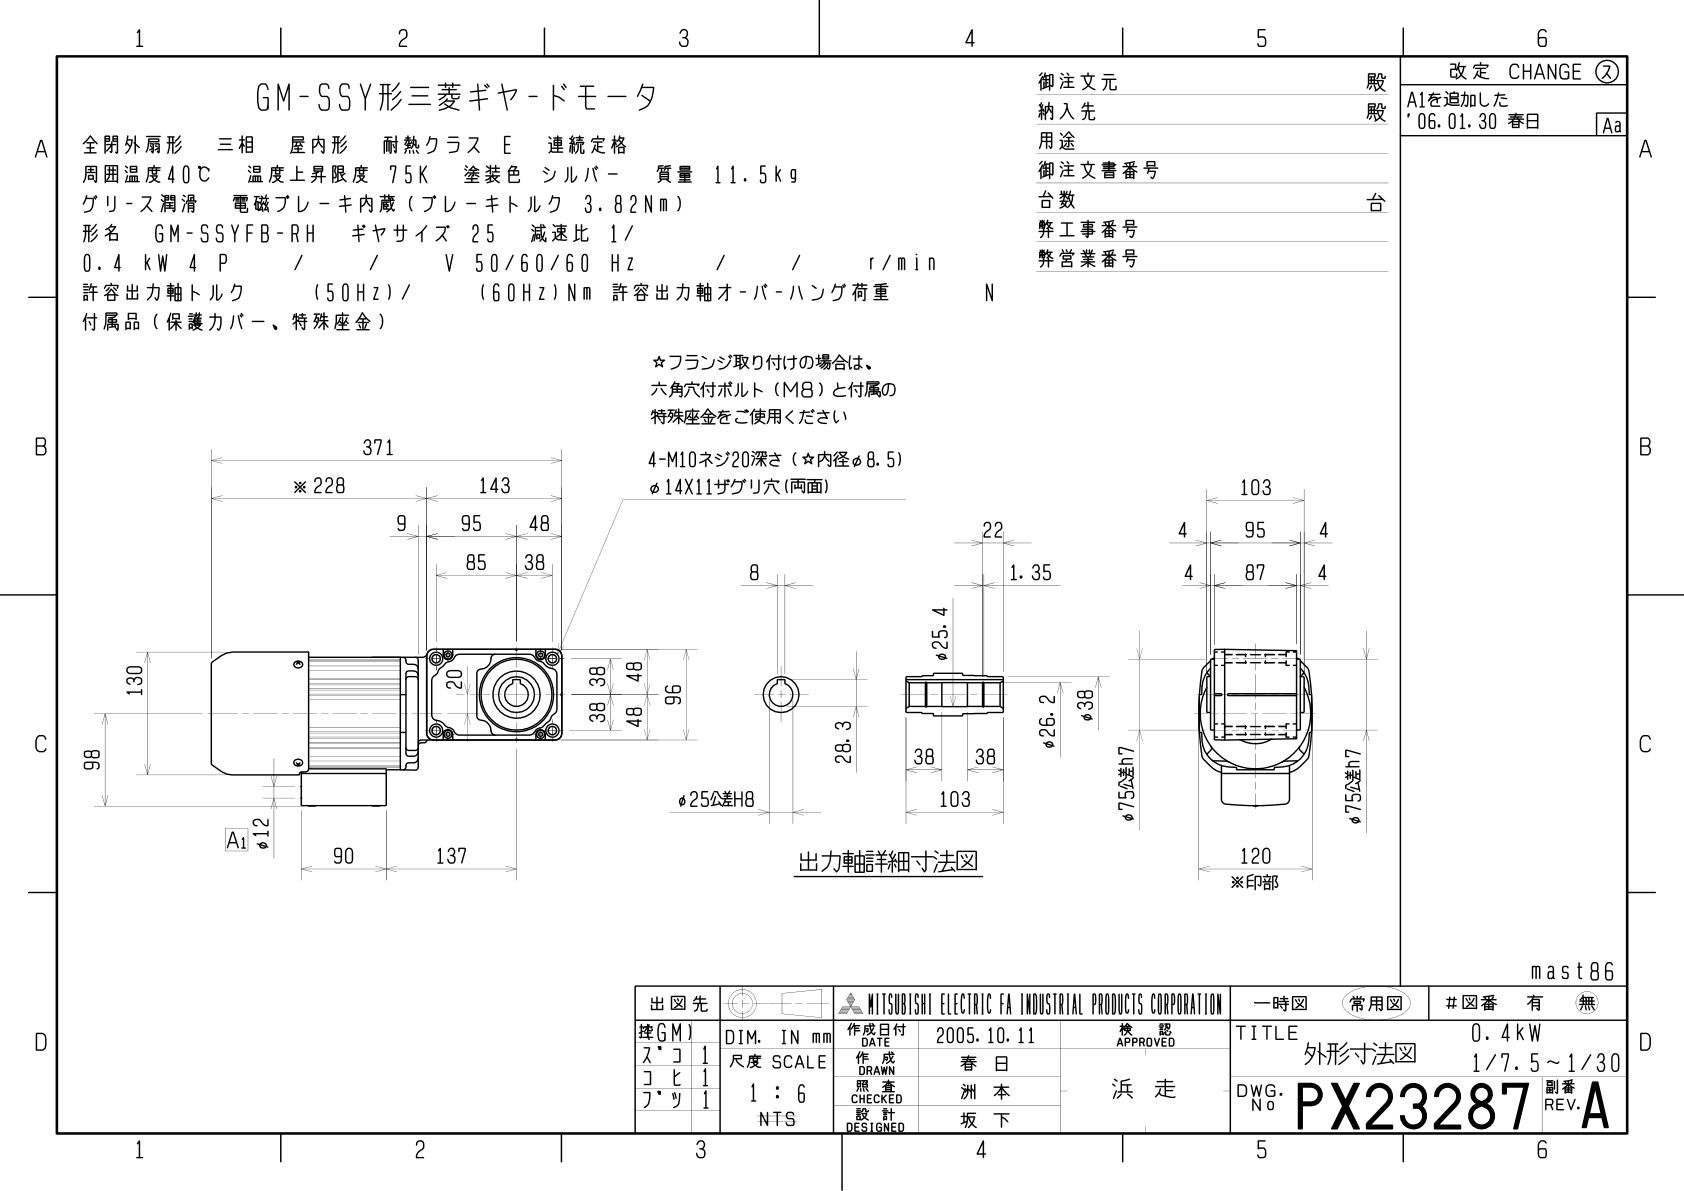GM_SSY_屋内_三相: (79, 345, 1386, 956)
